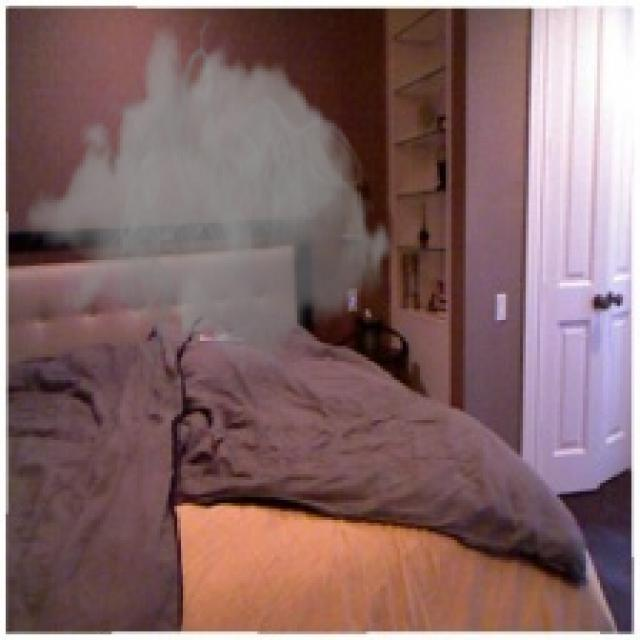smoke: (23, 11, 394, 403)
